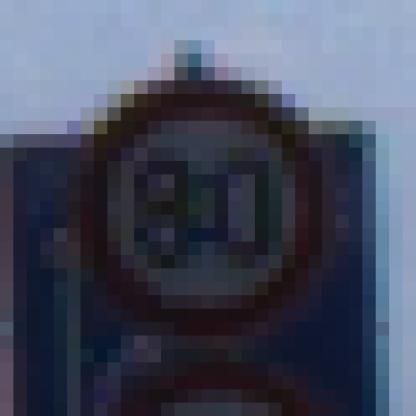Speed Limit 80: (93, 81, 319, 329)
